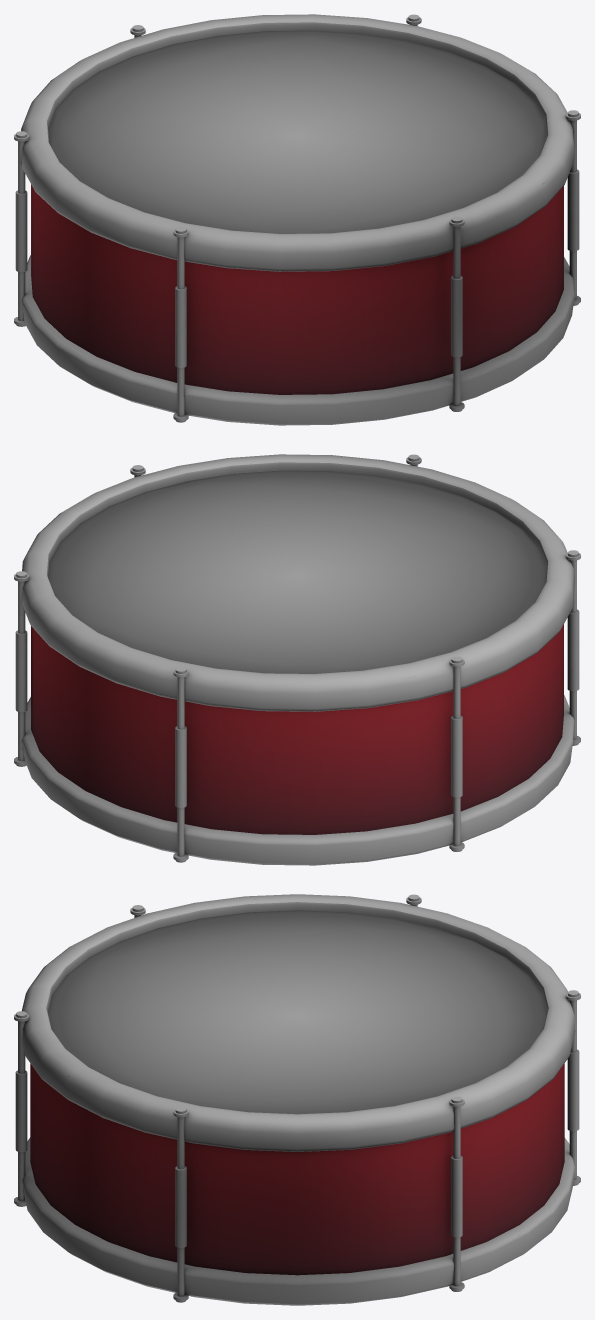
The model's file is beben_nisk_A.fbx.
3 renders of one model, top to bottom at view 1: azimuth 30°, elevation 25°; view 2: azimuth 150°, elevation 25°; view 3: azimuth 270°, elevation 25°, orthographic.
Parts seen in each view (by area): view 1: beben_nisk_A; view 2: beben_nisk_A; view 3: beben_nisk_A.
Boxes of the visible parts, left/top/right/bottom form: beben_nisk_A: left=14, top=14, right=580, bottom=425; beben_nisk_A: left=14, top=454, right=580, bottom=865; beben_nisk_A: left=14, top=894, right=580, bottom=1305.
Bounding box in the file's own units: 809 × 307 × 826.
1 material, 1 textured.
